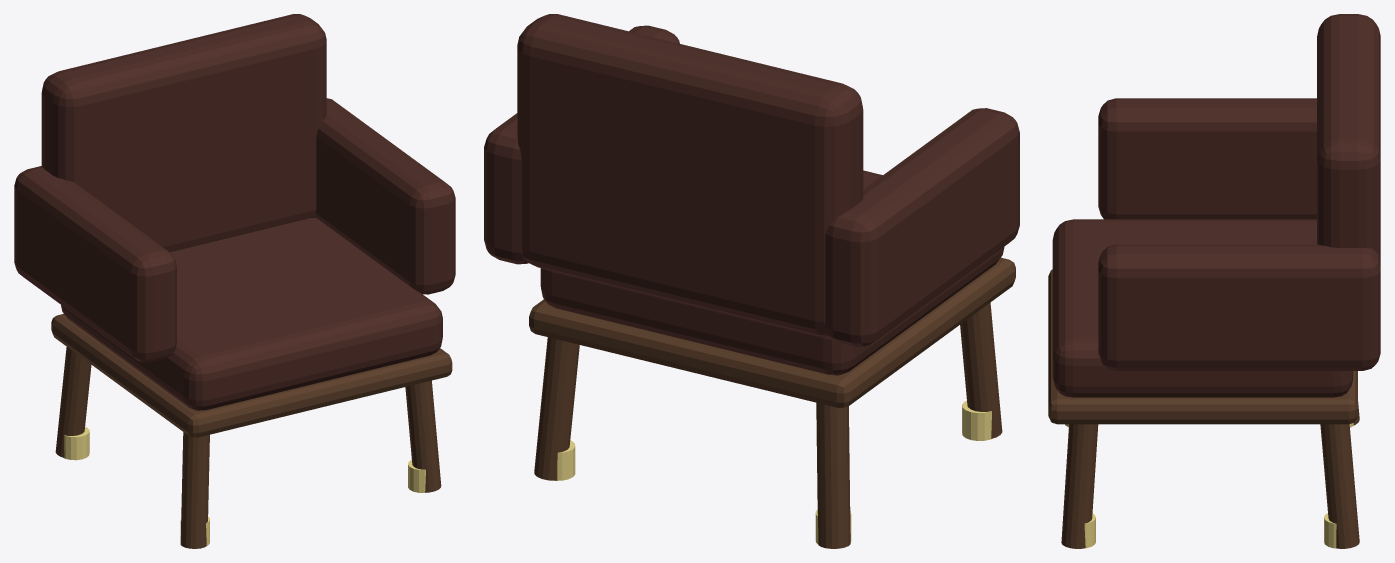
Rendered from club_chair_premium.glb.
3 renders of one model, left to right at view 1: azimuth 30°, elevation 25°; view 2: azimuth 150°, elevation 25°; view 3: azimuth 270°, elevation 25°, orthographic. The views are drawn at different scales.
Parts seen in each view (by area): view 1: Backrest_Main, SeatCushion, Armrest_L, Armrest_R, SeatBase, Leg_FL, Leg_FR, Leg_BL, Ferrule_Leg_BL; view 2: Backrest_Main, Armrest_L, SeatBase, SeatCushion, Armrest_R, Leg_BL, Leg_BR, Leg_FL, Ferrule_Leg_FL; view 3: Armrest_R, Armrest_L, SeatCushion, Backrest_Main, SeatBase, Leg_FR, Leg_BR.
Boxes of the visible parts, box(x1,y1,x2,y2) form: Backrest_Main: box(41, 14, 326, 252); SeatCushion: box(61, 217, 442, 410); Armrest_L: box(14, 166, 176, 362); Armrest_R: box(316, 98, 455, 294); SeatBase: box(51, 314, 452, 437); Leg_FL: box(180, 432, 209, 548); Leg_FR: box(405, 380, 441, 492); Leg_BL: box(55, 347, 91, 457); Ferrule_Leg_BL: box(64, 427, 89, 460); Backrest_Main: box(517, 14, 863, 336); Armrest_L: box(825, 108, 1019, 346); SeatBase: box(529, 257, 1015, 407); SeatCushion: box(540, 170, 1004, 375); Armrest_R: box(484, 25, 679, 264); Leg_BL: box(816, 402, 850, 548); Leg_BR: box(534, 337, 579, 480); Leg_FL: box(960, 302, 1002, 438); Ferrule_Leg_FL: box(962, 400, 991, 440); Armrest_R: box(1098, 244, 1380, 370); Armrest_L: box(1098, 98, 1316, 219); SeatCushion: box(1052, 219, 1353, 397); Backrest_Main: box(1317, 14, 1380, 261); SeatBase: box(1048, 269, 1357, 424); Leg_FR: box(1061, 424, 1098, 548); Leg_BR: box(1320, 424, 1359, 548).
Size of the model in its own units: 0.88 by 0.9824 by 0.73.
